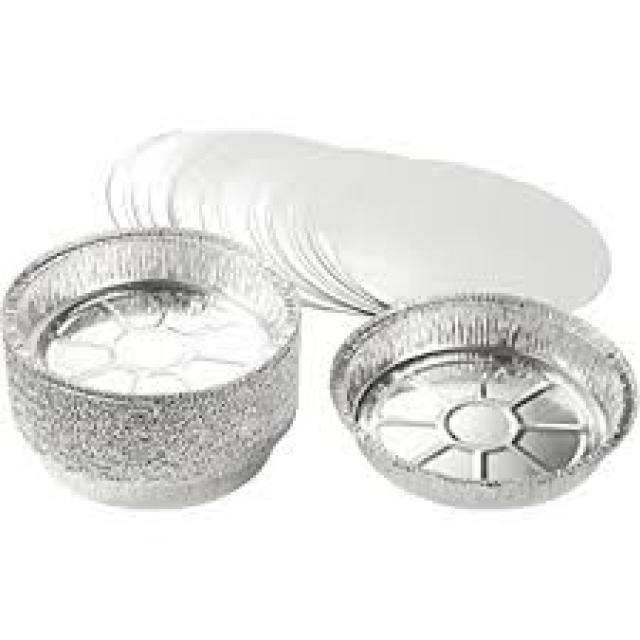metal: (3, 231, 298, 506), (333, 296, 634, 506)
